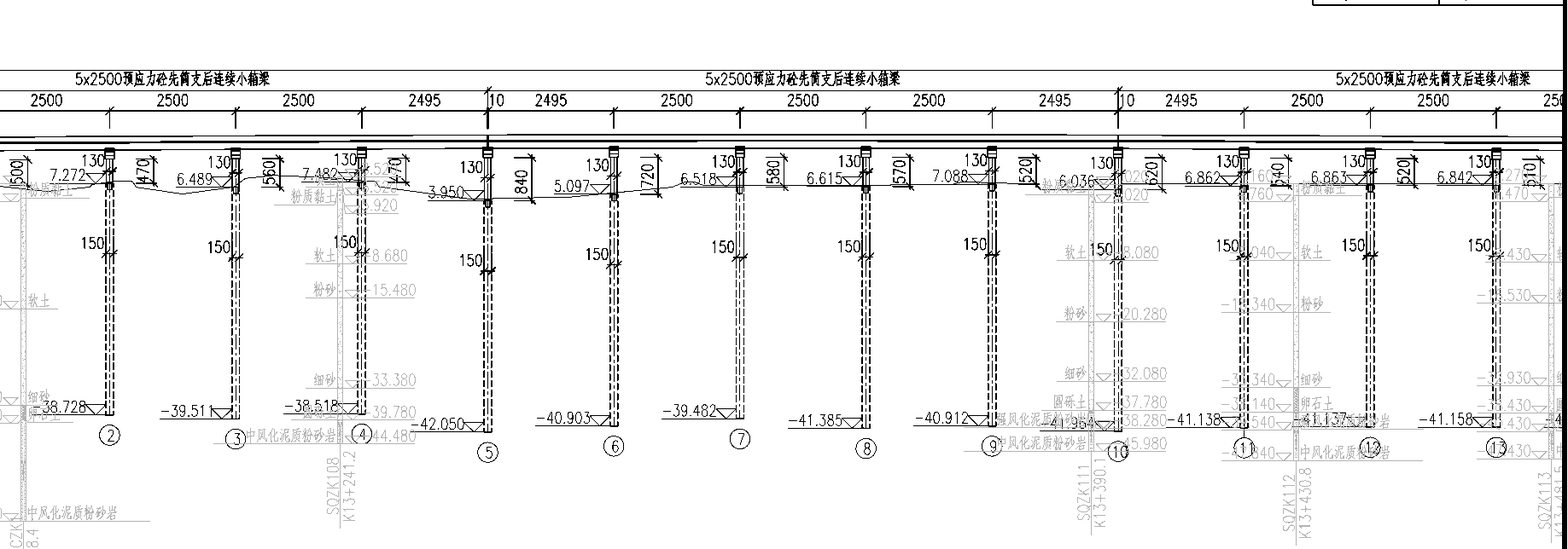B: (0, 58, 493, 102)
C: (530, 137, 637, 464), (1413, 140, 1518, 464), (784, 138, 887, 465), (24, 137, 131, 451), (1165, 137, 1267, 463), (411, 138, 510, 469), (912, 136, 1013, 460), (659, 137, 761, 456), (157, 137, 257, 455), (1294, 140, 1392, 462), (284, 137, 384, 449), (1045, 140, 1138, 465)
